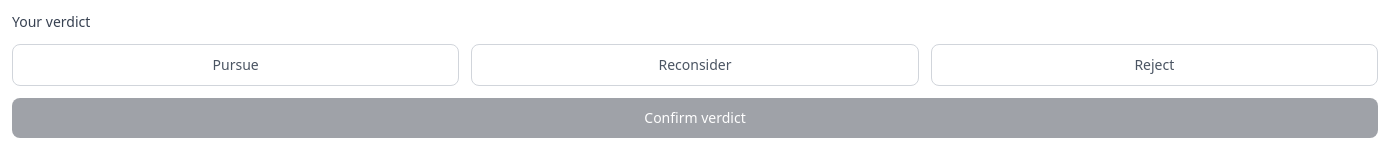
Test: VerdictSelector › confirm button is disabled until a verdict is selected
Expected: the button "Confirm verdict" is disabled, [12,98,1378,138]
Click the button "Pursue": (236, 65) [12,44,459,86]
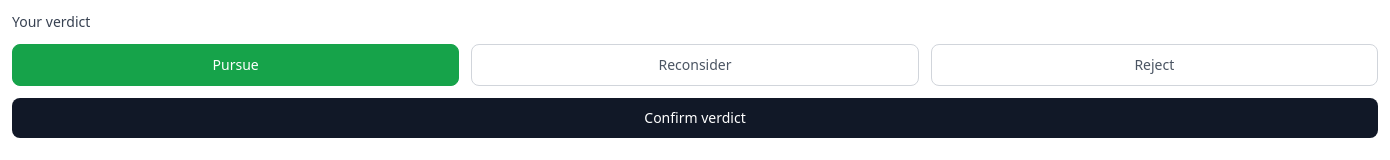
Now the button "Confirm verdict" is enabled, box [12,98,1378,138]
